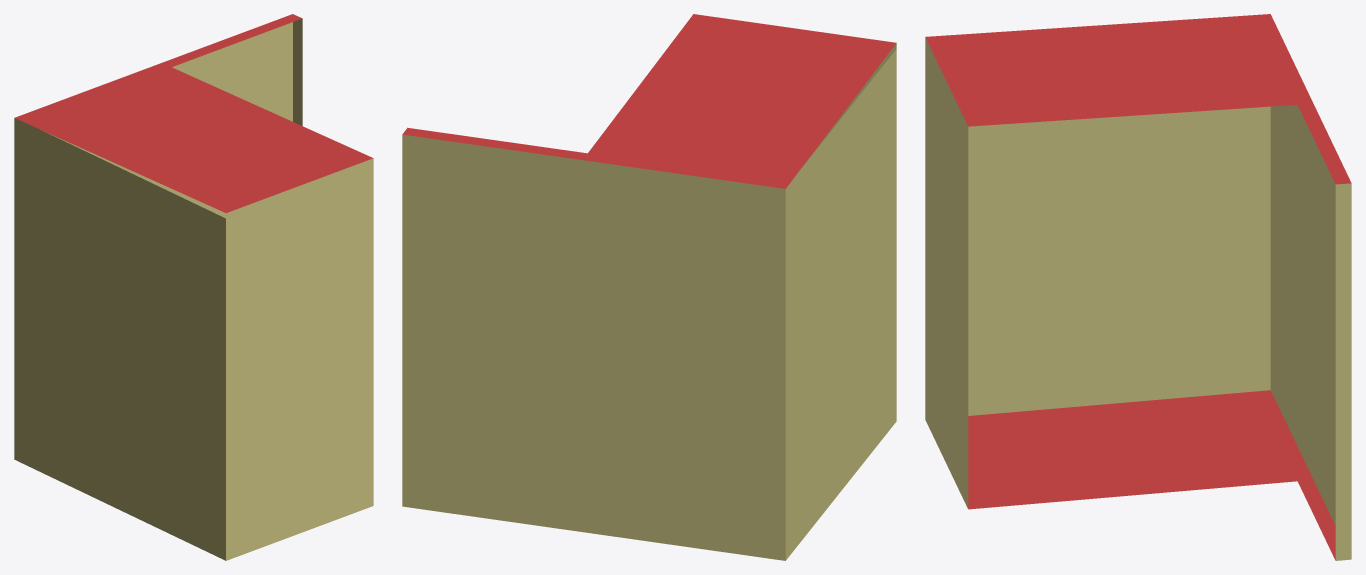
The picture shows the model from 3 angles, left to right: view 1: azimuth 30°, elevation 25°; view 2: azimuth 150°, elevation 25°; view 3: azimuth 270°, elevation 25°; orthographic projection. The views are drawn at different scales.
Size of the model in its own units: 6.18 by 6.52 by 6.46.
